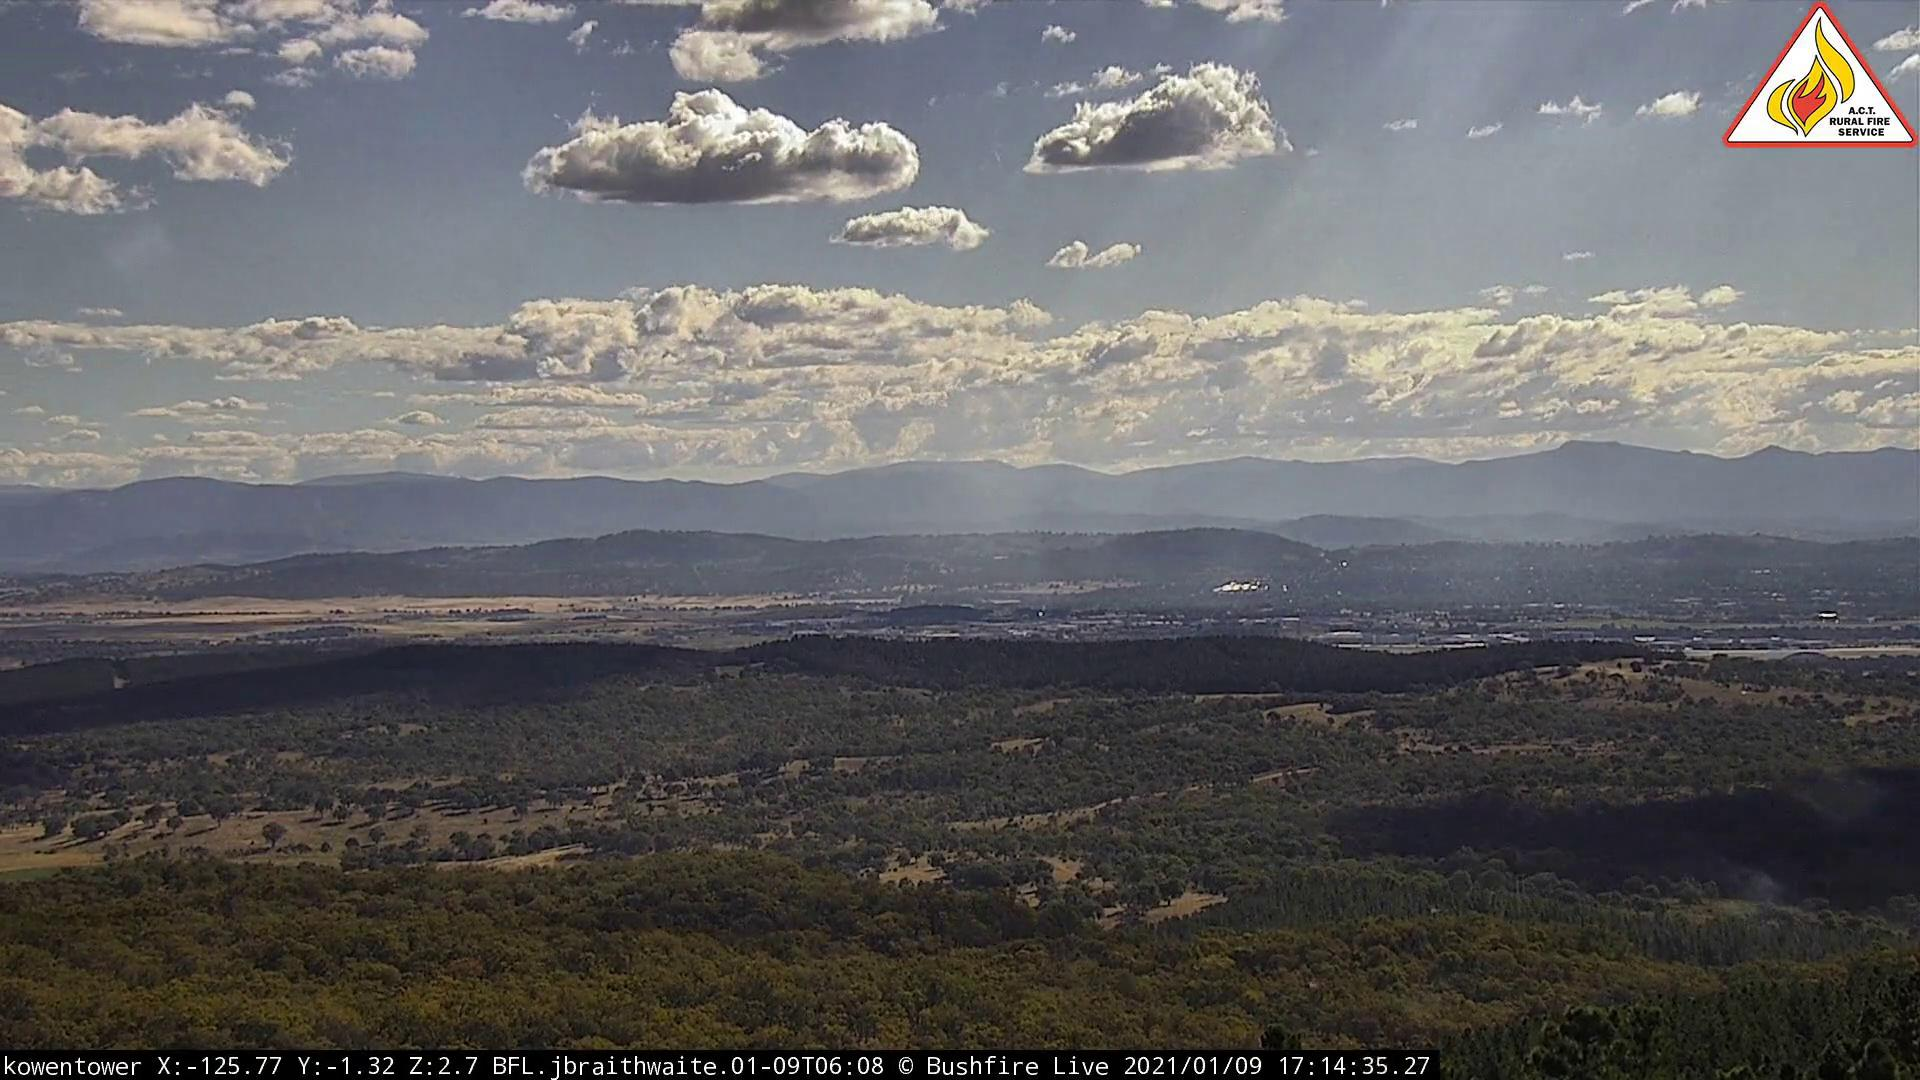Smoke: (919, 527, 1048, 607)
